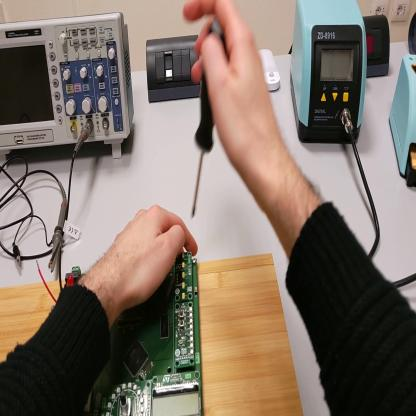hand: (185, 2, 278, 188), (105, 205, 198, 312)
low voltage board: (35, 244, 204, 414)
oscilloscope: (1, 8, 136, 166)
oscilloscope probe tip: (49, 185, 67, 272)
screwdriver-: (188, 29, 225, 227)
socket: (364, 11, 392, 80), (408, 10, 416, 54)
welder base: (388, 46, 416, 188)
welder station: (290, 3, 368, 147)
working area: (2, 255, 306, 415)
